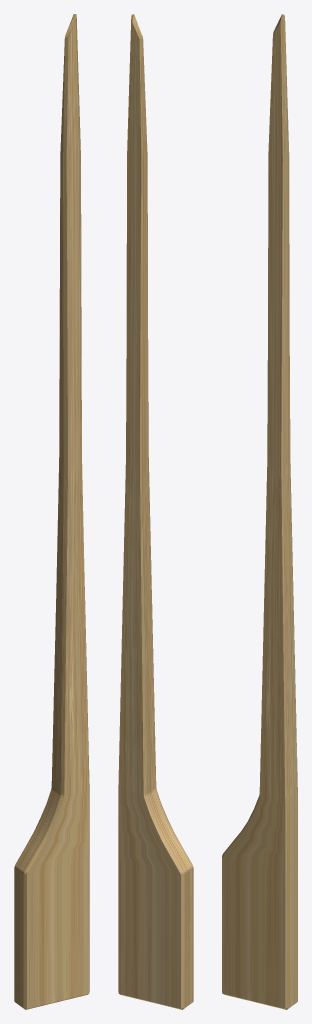
File: takegushi.fbx
The picture shows the model from 3 angles, left to right: view 1: azimuth 30°, elevation 25°; view 2: azimuth 150°, elevation 25°; view 3: azimuth 330°, elevation 25°; orthographic projection.
Parts seen in each view (by area): view 1: pCube1; view 2: pCube1; view 3: pCube1.
Part boxes in pixels (<box>): pCube1: <box>14,14,89,1009</box>; pCube1: <box>118,14,193,1009</box>; pCube1: <box>222,14,297,1009</box>.
Bounding box in the file's own units: 1.19 × 16.89 × 0.3797.
